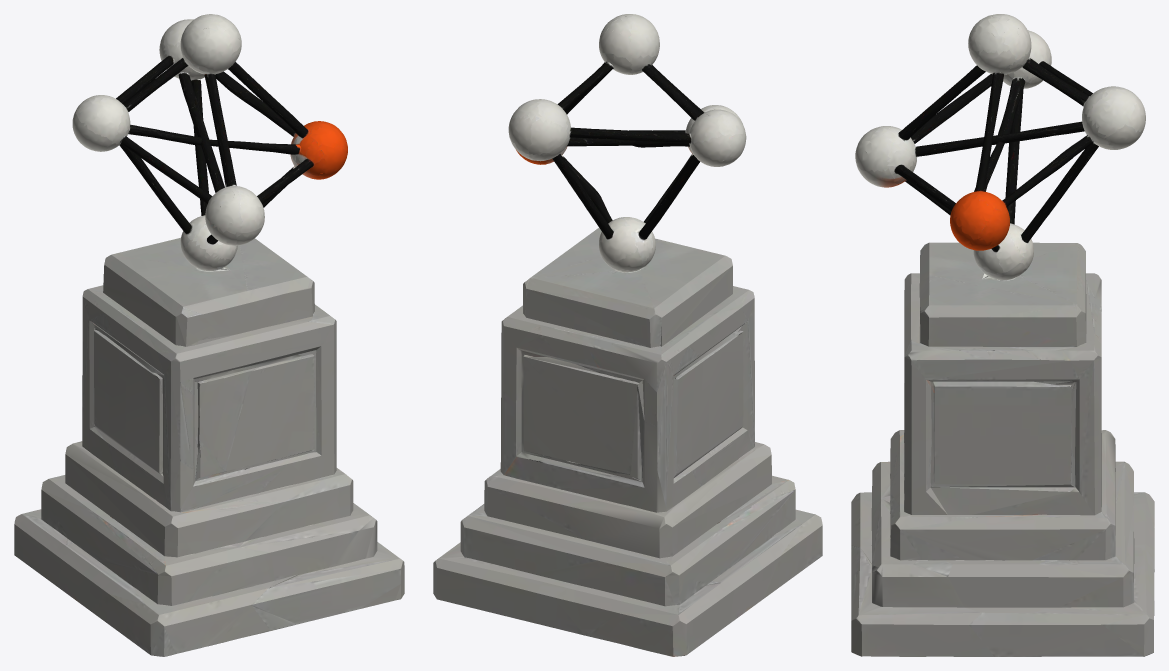
File: linkedin.glb
3 views of the same model, side by side, from view 1: azimuth 30°, elevation 25°; view 2: azimuth 150°, elevation 25°; view 3: azimuth 270°, elevation 25° (orthographic). The views are drawn at different scales.
Size of the model in its own units: 0.9063 by 1.9 by 0.9065.
1 material, 1 textured.
